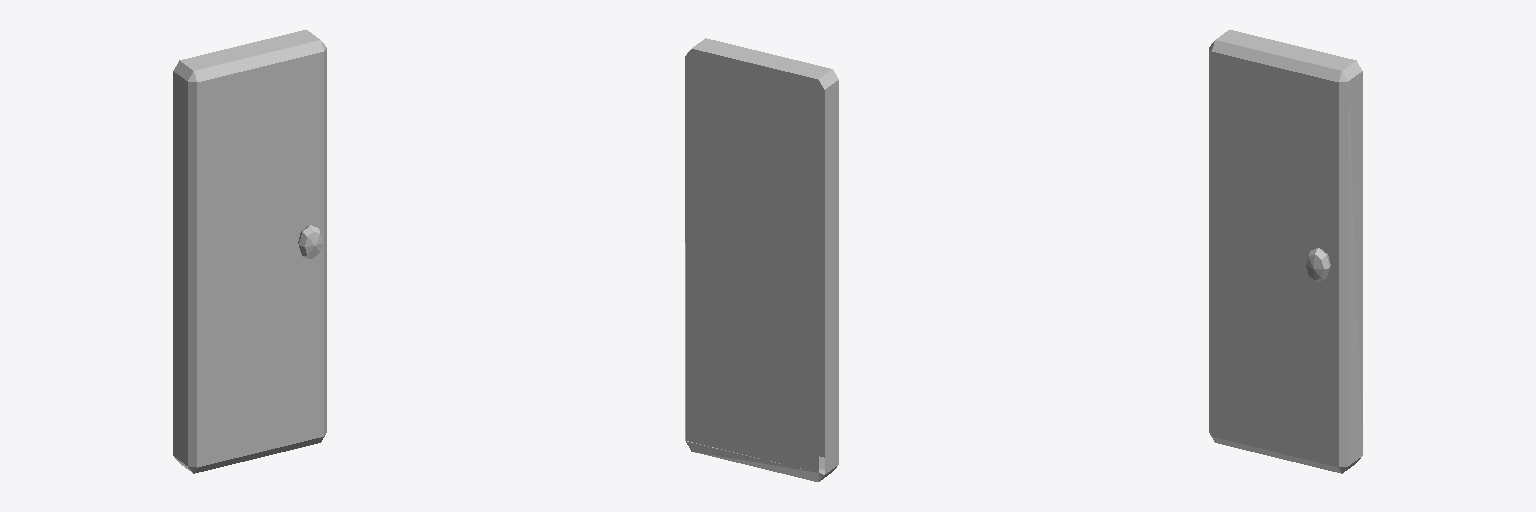
File: pantry-leftdoor.obj
The picture shows the model from 3 angles: view 1: azimuth 30°, elevation 25°; view 2: azimuth 150°, elevation 25°; view 3: azimuth 330°, elevation 25°; orthographic projection.
Visible parts, largest first — view 1: kitchencabinet_leftside; view 2: kitchencabinet_leftside; view 3: kitchencabinet_leftside.
Part boxes in pixels (bbox=[...]): kitchencabinet_leftside: bbox=[173, 30, 326, 473]; kitchencabinet_leftside: bbox=[685, 38, 838, 481]; kitchencabinet_leftside: bbox=[1209, 30, 1362, 473].
Size of the model in its own units: 0.9 by 2.49 by 0.2922.